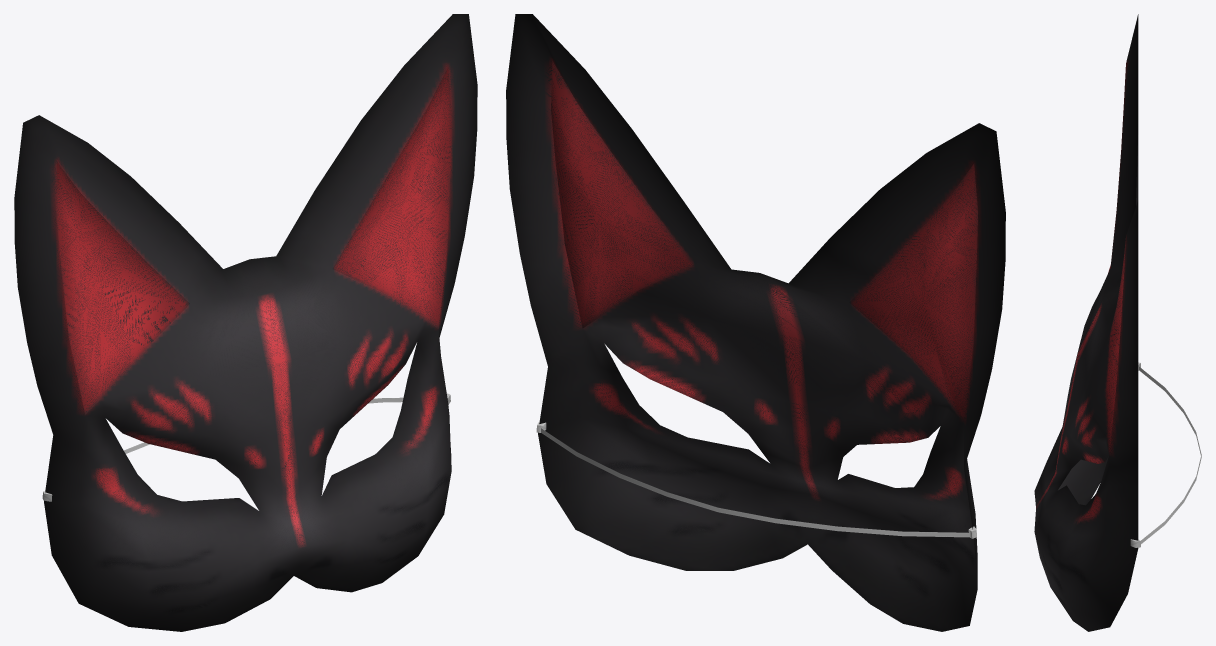
Rendered from jsf_Mask_32.fbx.
3 views of the same model, side by side, from view 1: azimuth 30°, elevation 25°; view 2: azimuth 150°, elevation 25°; view 3: azimuth 270°, elevation 25° (orthographic). The views are drawn at different scales.
Parts seen in each view (by area): view 1: Mask_32; view 2: Mask_32, ElasticBand_32; view 3: Mask_32, ElasticBand_32.
Part boxes in pixels (x1,y1,x2,y2): Mask_32: (14, 14, 477, 631); Mask_32: (506, 14, 1005, 631); ElasticBand_32: (541, 428, 969, 537); Mask_32: (1034, 14, 1140, 631); ElasticBand_32: (1139, 366, 1201, 543).
Bounding box in the file's own units: 21.63 × 23.05 × 7.46.
